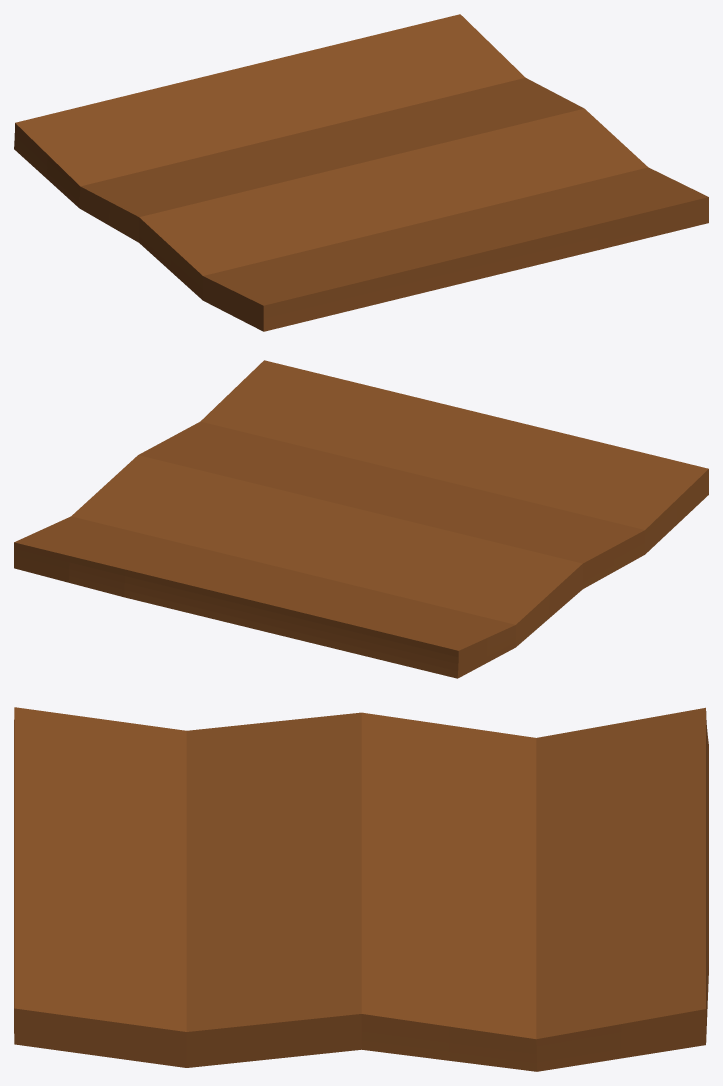
Rendered from soilUnhoed.fbx.
3 renders of one model, top to bottom at view 1: azimuth 30°, elevation 25°; view 2: azimuth 150°, elevation 25°; view 3: azimuth 270°, elevation 25°, orthographic. The views are drawn at different scales.
Visible parts, largest first — view 1: Cube; view 2: Cube; view 3: Cube.
Boxes of the visible parts, x1,y1,x2,y2 form: Cube: (14,14,708,331); Cube: (14,360,708,678); Cube: (14,707,708,1071).
Size of the model in its own units: 101 by 9.34 by 97.48.
